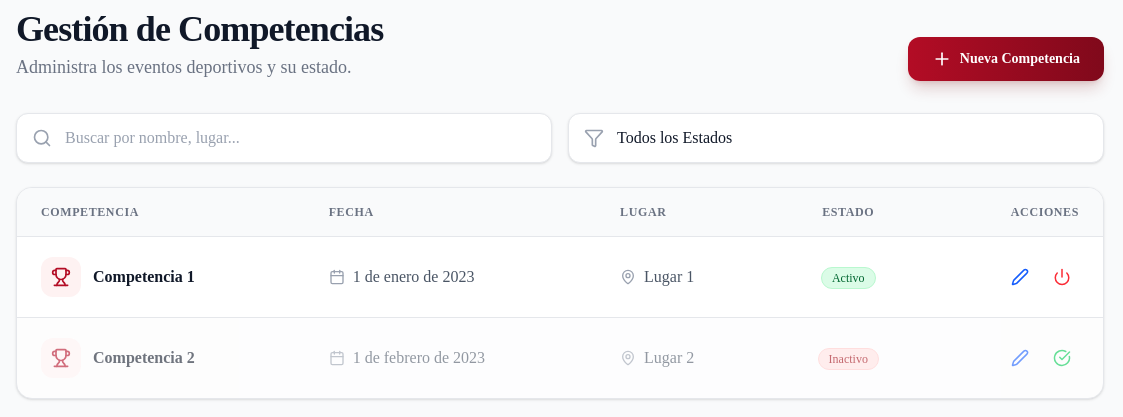
Test: CompetenciasPage › handles search filtering
expect the text "Competencia 1" is shown: met, box [93,265,195,289]
Type "Lugar 2" into the field with placeholder "Buscar por nombre, lugar...".
click(284, 138); type("Lugar 2")  # box [16,113,552,163]
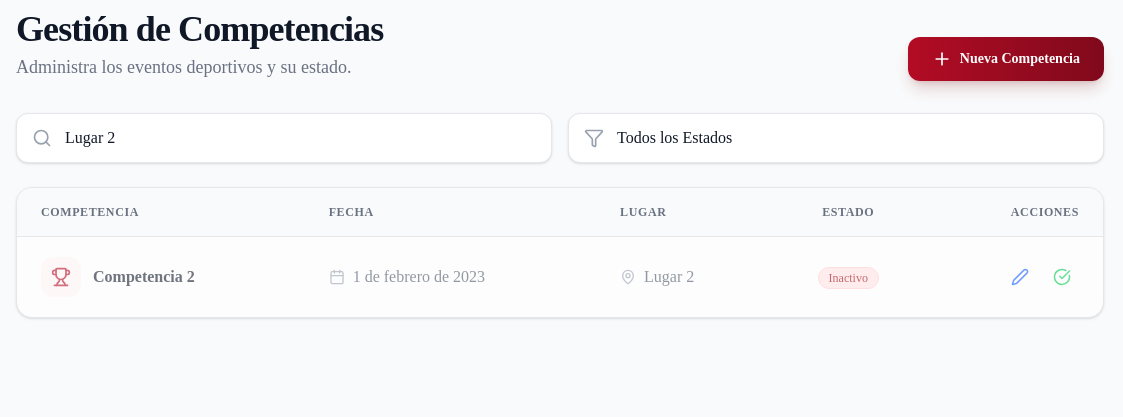
expect the text "Competencia 2" is shown: met, box [93,265,195,289]
expect the text "Competencia 1" is gone: met
